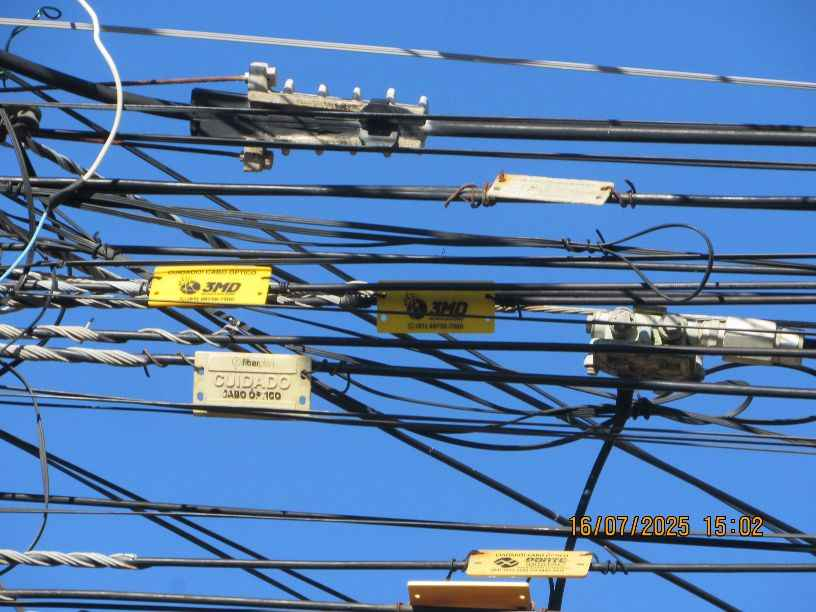fibra_optica: (175, 337, 325, 435), (469, 154, 645, 226), (119, 248, 278, 324), (358, 275, 514, 346), (434, 523, 601, 580)
